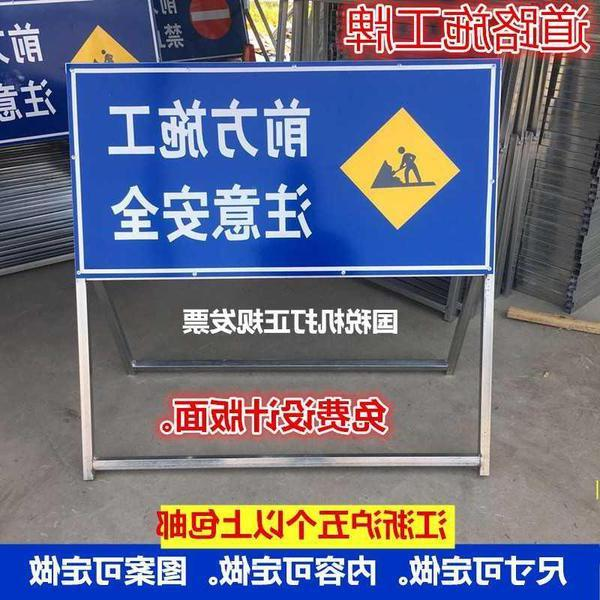sign: (72, 64, 497, 279)
